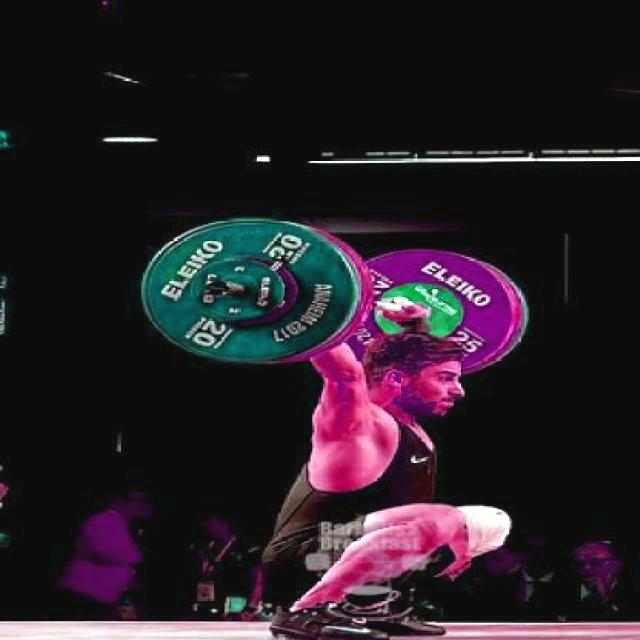barbell: (136, 208, 360, 365)
